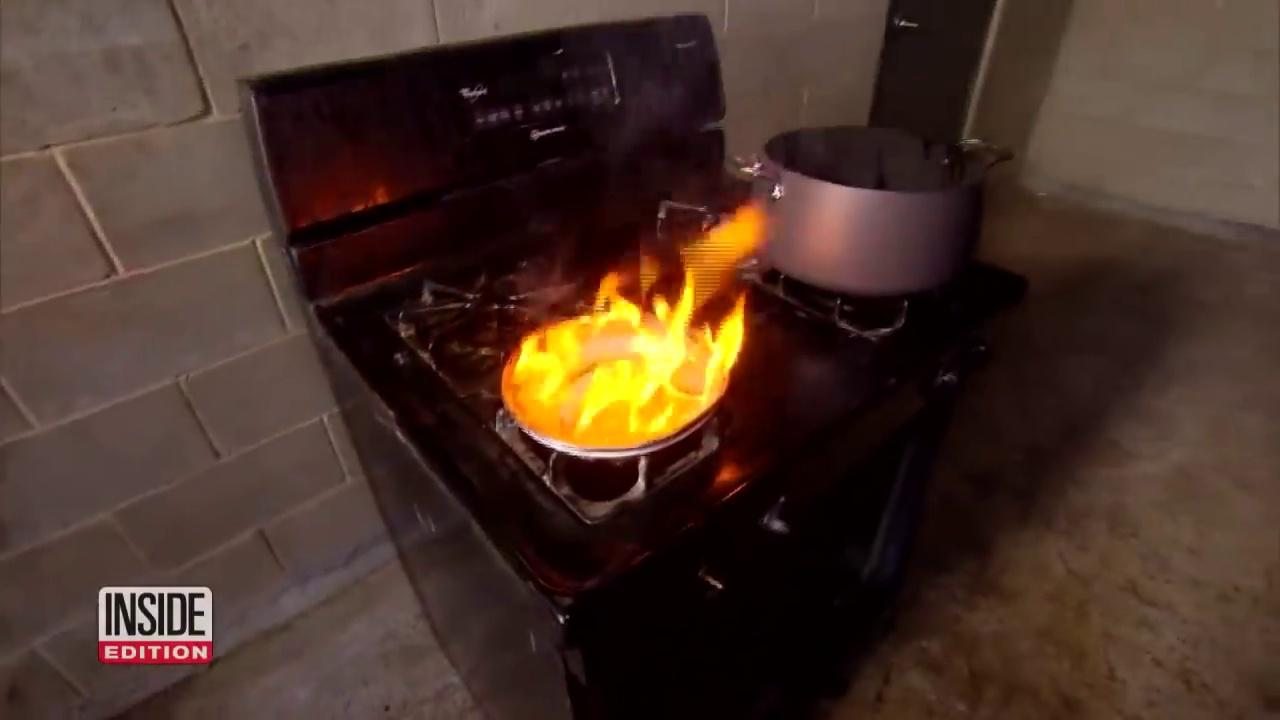Fire: (516, 216, 769, 440)
